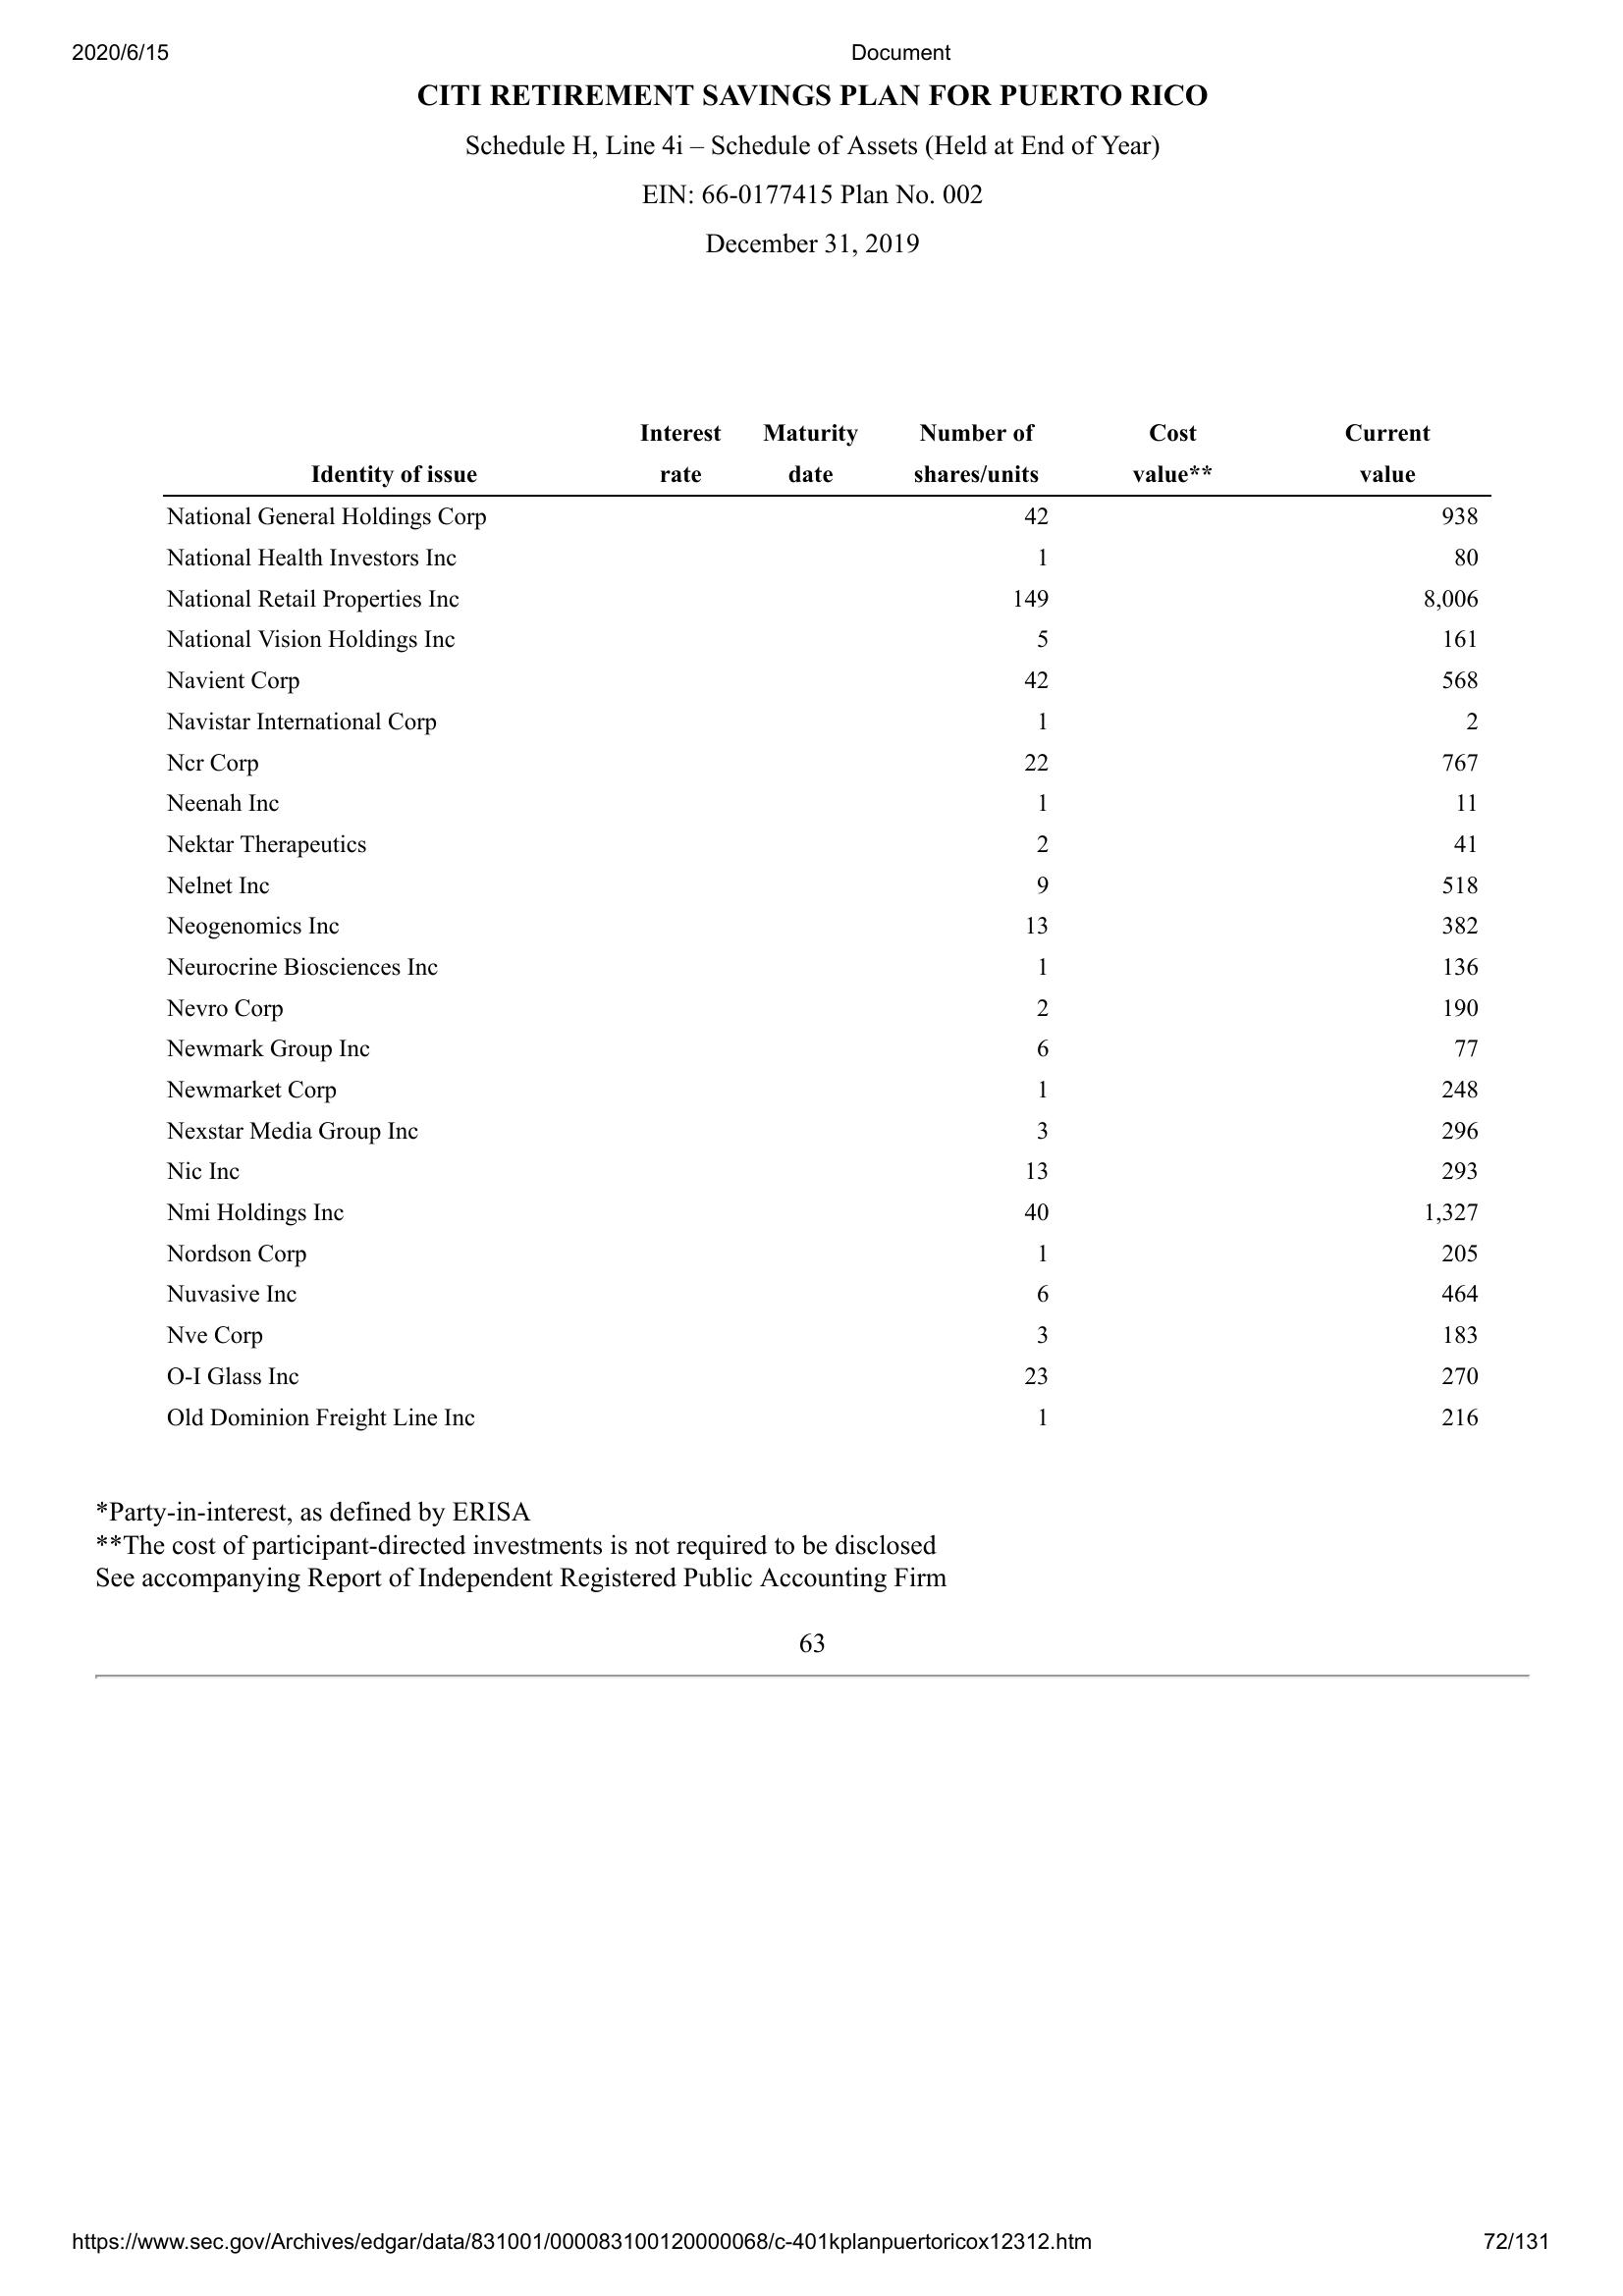table: (156, 416, 1493, 1438)
